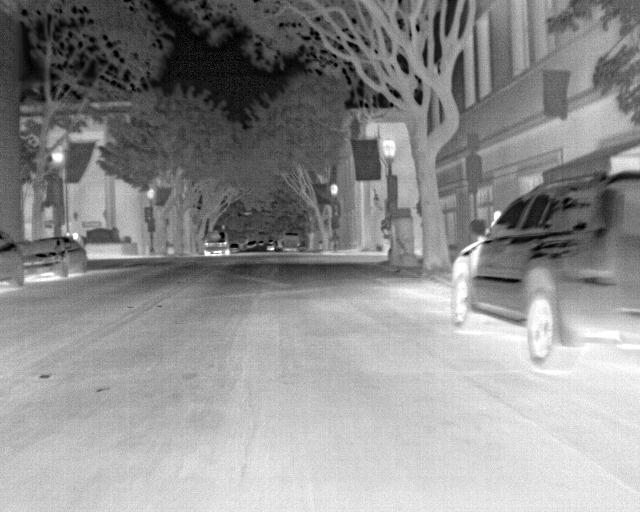bicycle: (449, 170, 639, 369), (22, 236, 86, 277), (0, 236, 24, 287), (202, 232, 231, 257), (276, 230, 305, 252), (262, 241, 278, 253), (226, 242, 239, 254)
